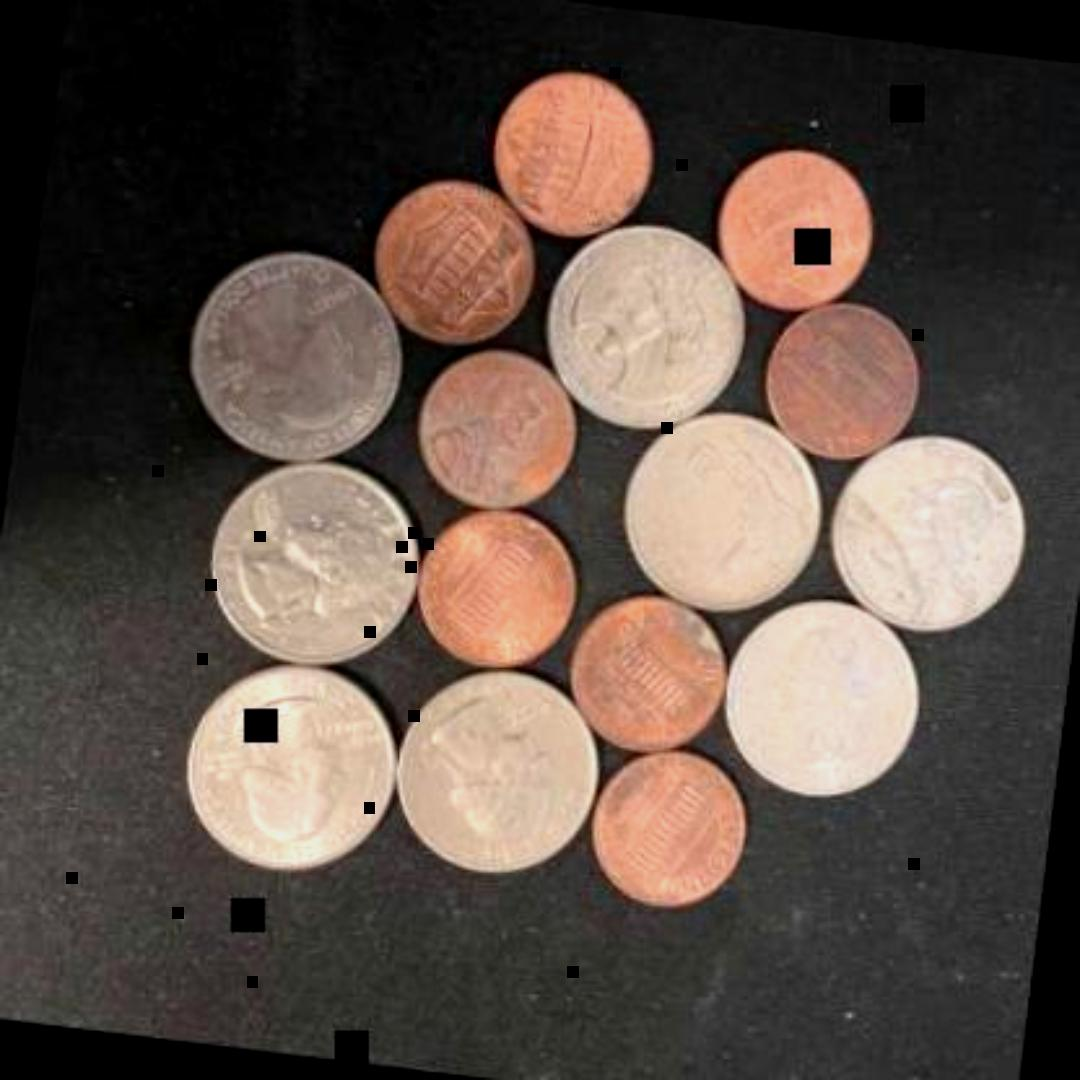Penny: (387, 336, 581, 518), (471, 64, 660, 250), (743, 283, 929, 472), (394, 494, 588, 675), (567, 742, 756, 922), (362, 168, 542, 352), (550, 586, 738, 762), (700, 144, 878, 316)
Quarter: (167, 231, 411, 475), (164, 645, 404, 886), (187, 446, 433, 680), (380, 652, 612, 884), (598, 398, 836, 622), (700, 582, 930, 812), (526, 214, 754, 440), (814, 422, 1044, 642)
